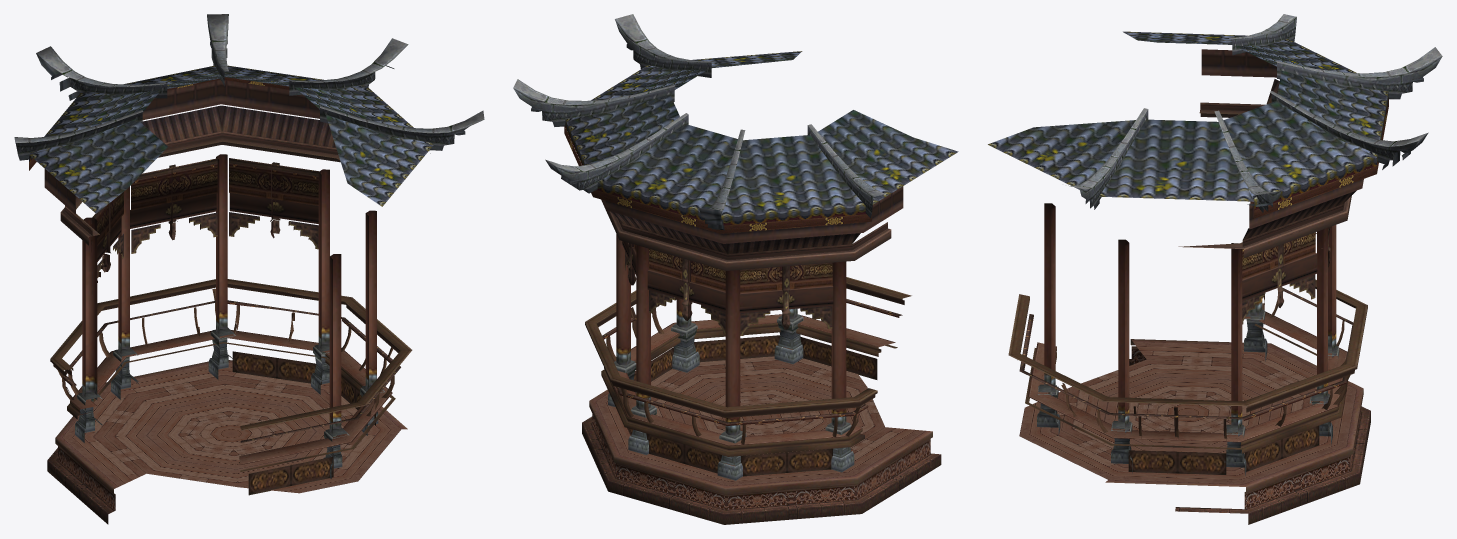
Rendered from S2_Build_XSC021b_H1.FBX.
The picture shows the model from 3 angles, left to right: view 1: azimuth 30°, elevation 25°; view 2: azimuth 150°, elevation 25°; view 3: azimuth 270°, elevation 25°; orthographic projection. The views are drawn at different scales.
Parts seen in each view (by area): view 1: S2_Build_XSC021b_H1; view 2: S2_Build_XSC021b_H1; view 3: S2_Build_XSC021b_H1.
Boxes of the visible parts, x1,y1,x2,y2 form: S2_Build_XSC021b_H1: (14, 14, 484, 524); S2_Build_XSC021b_H1: (513, 14, 958, 524); S2_Build_XSC021b_H1: (988, 14, 1442, 524).
Bounding box in the file's own units: 4571 × 4095 × 4519.
